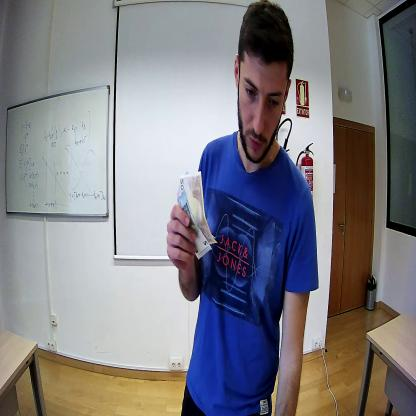billete: (177, 170, 217, 260), (177, 189, 212, 259)
